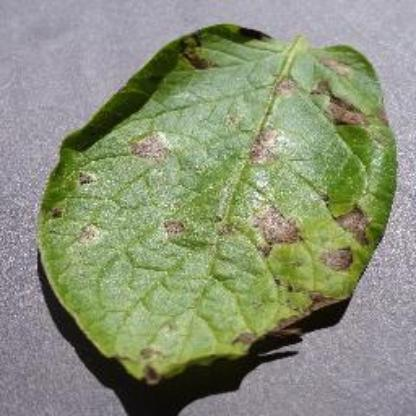Early-Blight: (36, 16, 396, 388)
